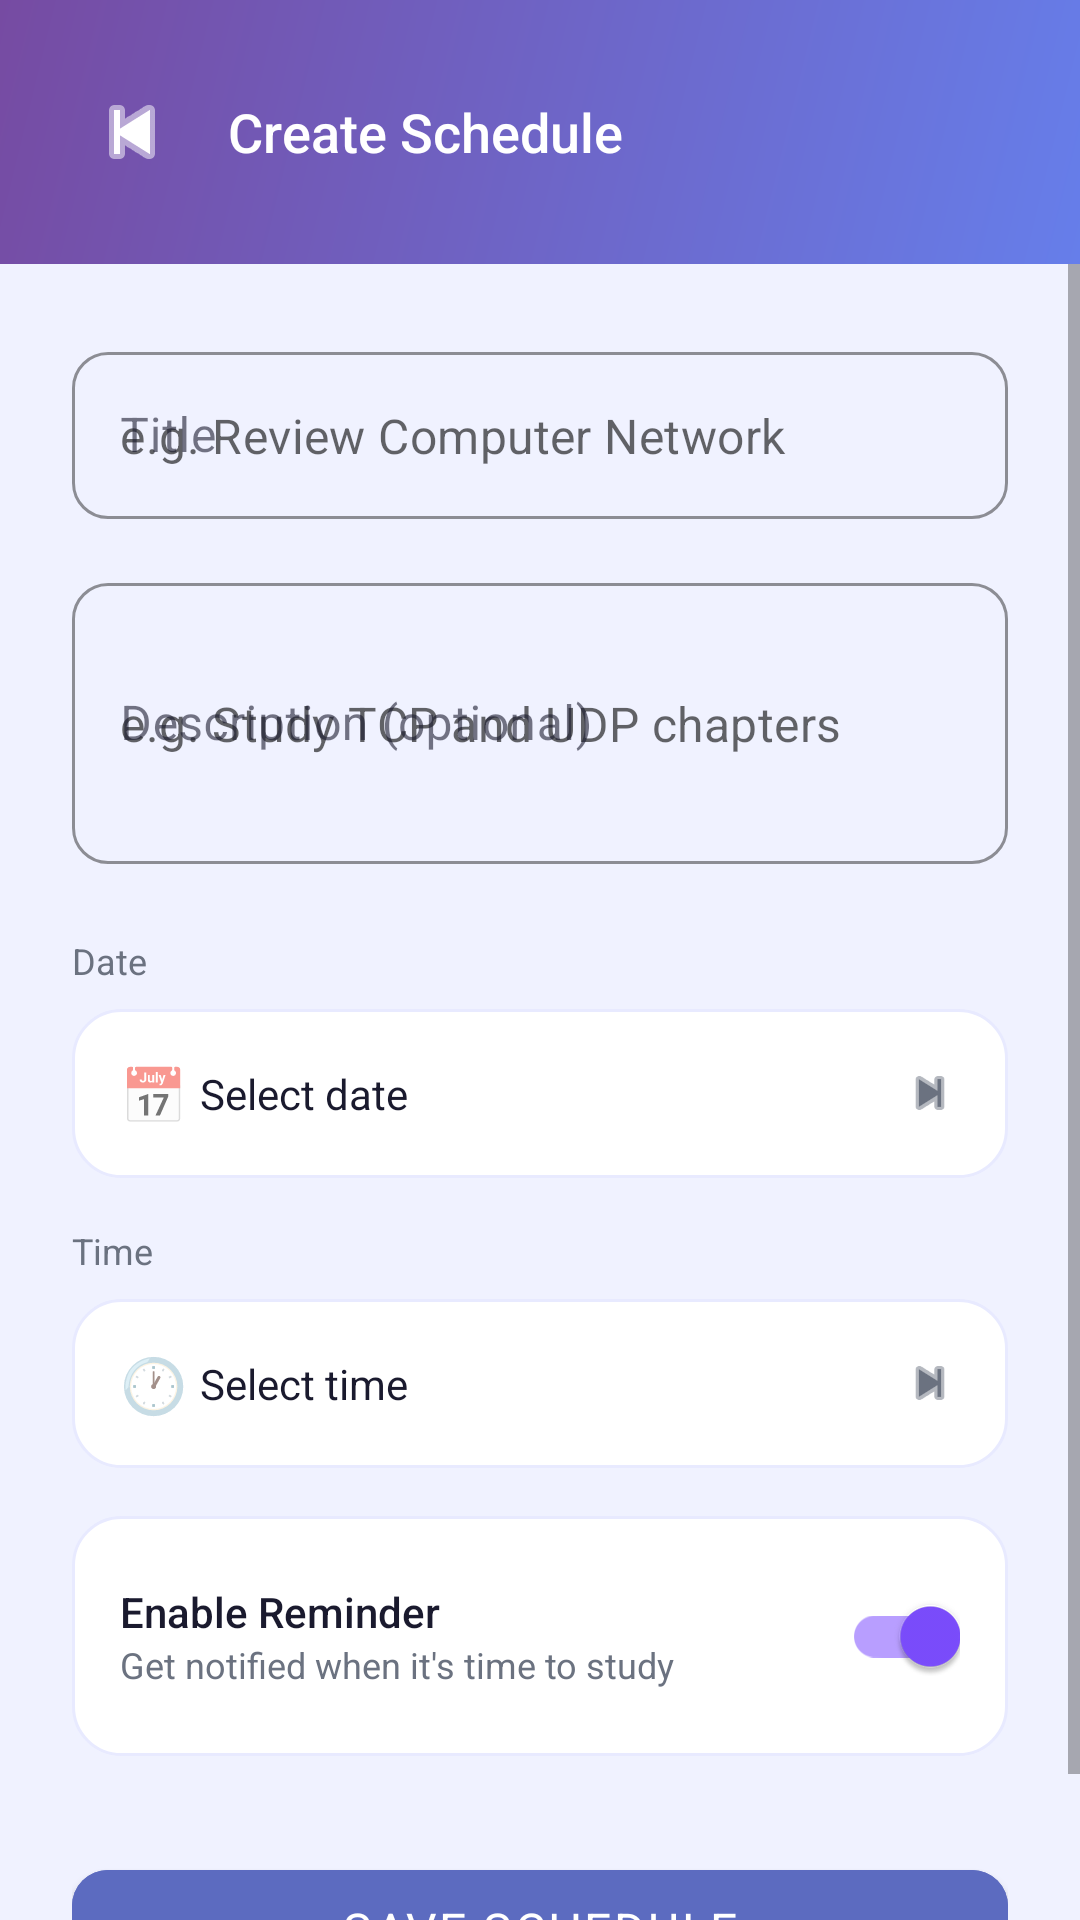

Screen size 1080 x 1920. Icon name, then its center in pixels as [x,y]:
Back: [132,132]
next: [930,1093], [930,1383]
